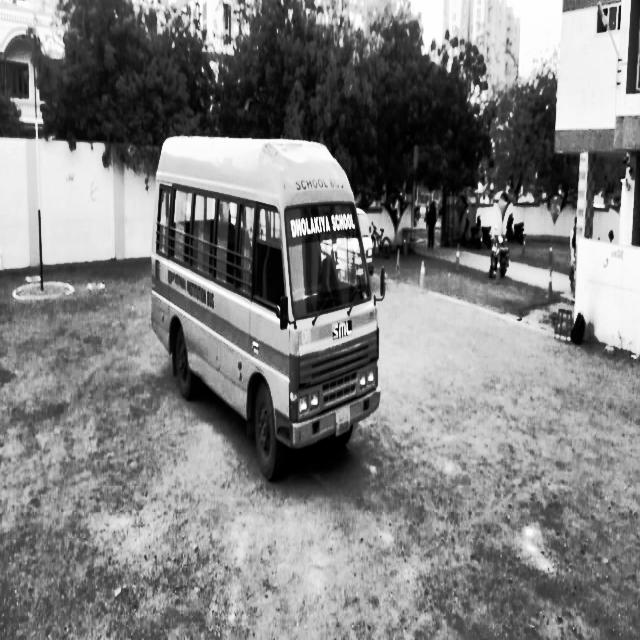Bus: (141, 107, 398, 494)
